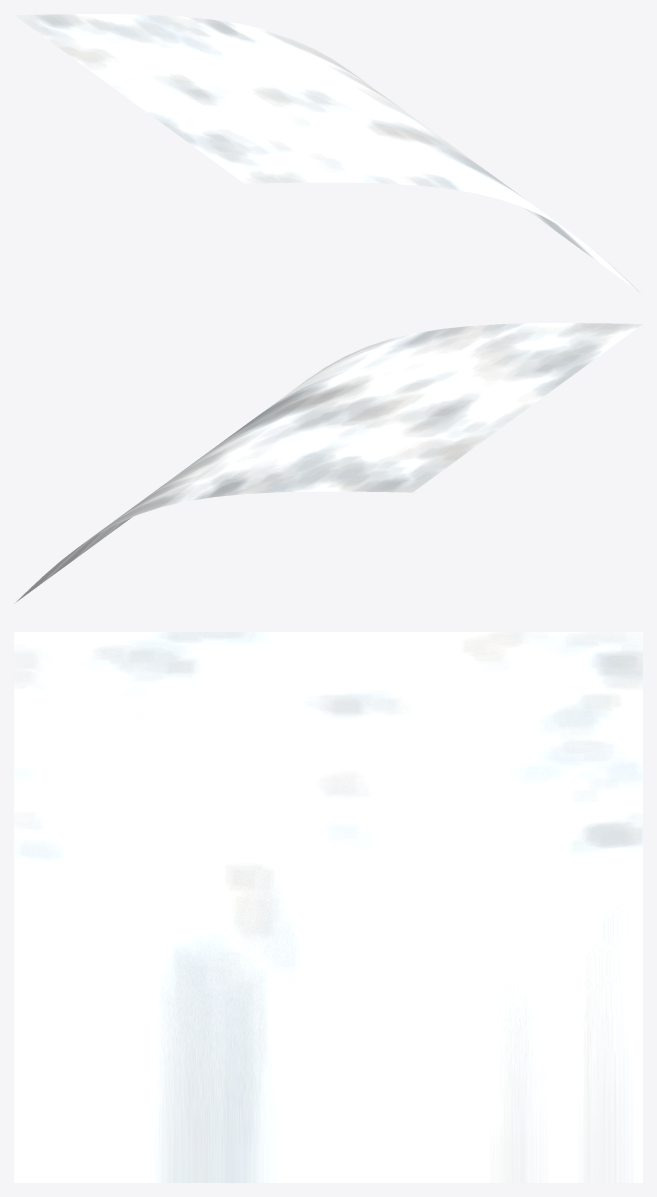
File: drop1_smooth_out.fbx
3 renders of one model, top to bottom at view 1: azimuth 30°, elevation 25°; view 2: azimuth 150°, elevation 25°; view 3: azimuth 270°, elevation 25°, orthographic. The views are drawn at different scales.
Parts seen in each view (by area): view 1: drop1_smooth_out; view 2: drop1_smooth_out; view 3: drop1_smooth_out.
Boxes of the visible parts, x1,y1,x2,y2 form: drop1_smooth_out: (14,14,642,294); drop1_smooth_out: (14,323,642,603); drop1_smooth_out: (14,632,642,1182).
Bounding box in the file's own units: 200 × 100 × 200.
